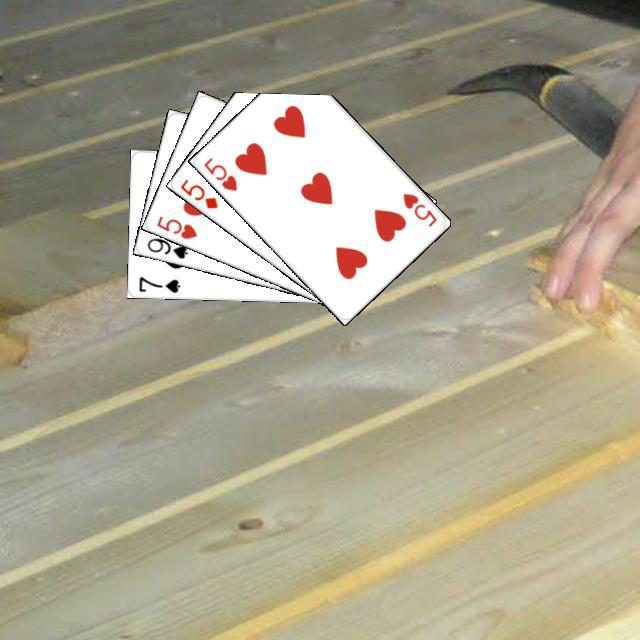5d: (175, 174, 220, 211)
5h: (199, 152, 239, 193), (398, 188, 439, 228), (152, 211, 199, 241)
7s: (134, 272, 182, 294)
9s: (142, 233, 189, 261)
